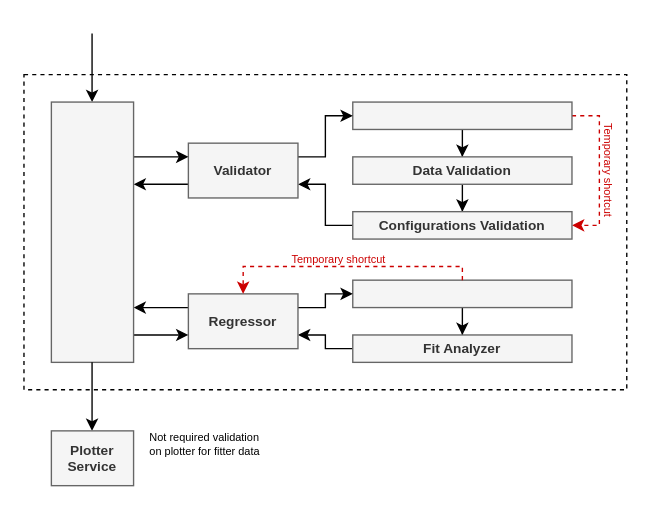
Image size: 651x510. Some labels were removed from this diagram. The centre of each missing label's shape, as x and y in pixels:
Fit Builder: pixel 461 293
Fitter Service: pixel 92 231
Function Validation: pixel 461 115
